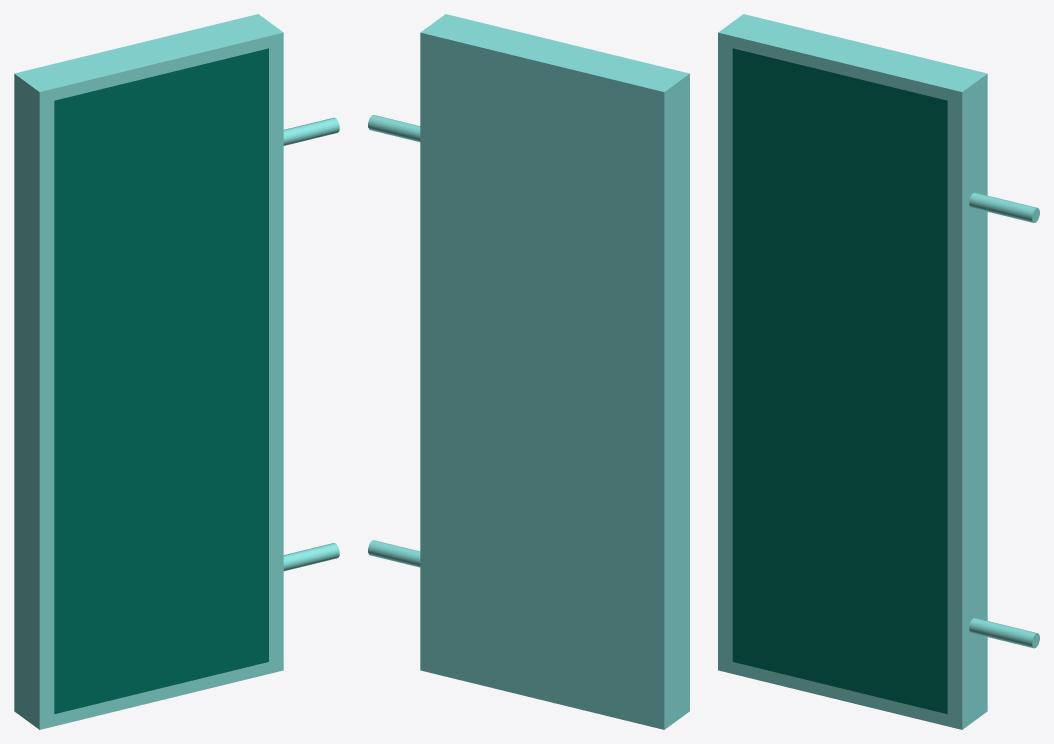
File: SM_Panneau_Neon_accroche.fbx
3 views of the same model, side by side, from view 1: azimuth 30°, elevation 25°; view 2: azimuth 150°, elevation 25°; view 3: azimuth 330°, elevation 25° (orthographic).
Visible parts, largest first — view 1: SM_Panneau_Neon_accroche; view 2: SM_Panneau_Neon_accroche; view 3: SM_Panneau_Neon_accroche.
Boxes of the visible parts, x1,y1,x2,y2 form: SM_Panneau_Neon_accroche: (14, 14, 339, 729); SM_Panneau_Neon_accroche: (368, 14, 689, 729); SM_Panneau_Neon_accroche: (718, 14, 1039, 729).
Size of the model in its own units: 2.03 by 4.03 by 0.2911.
